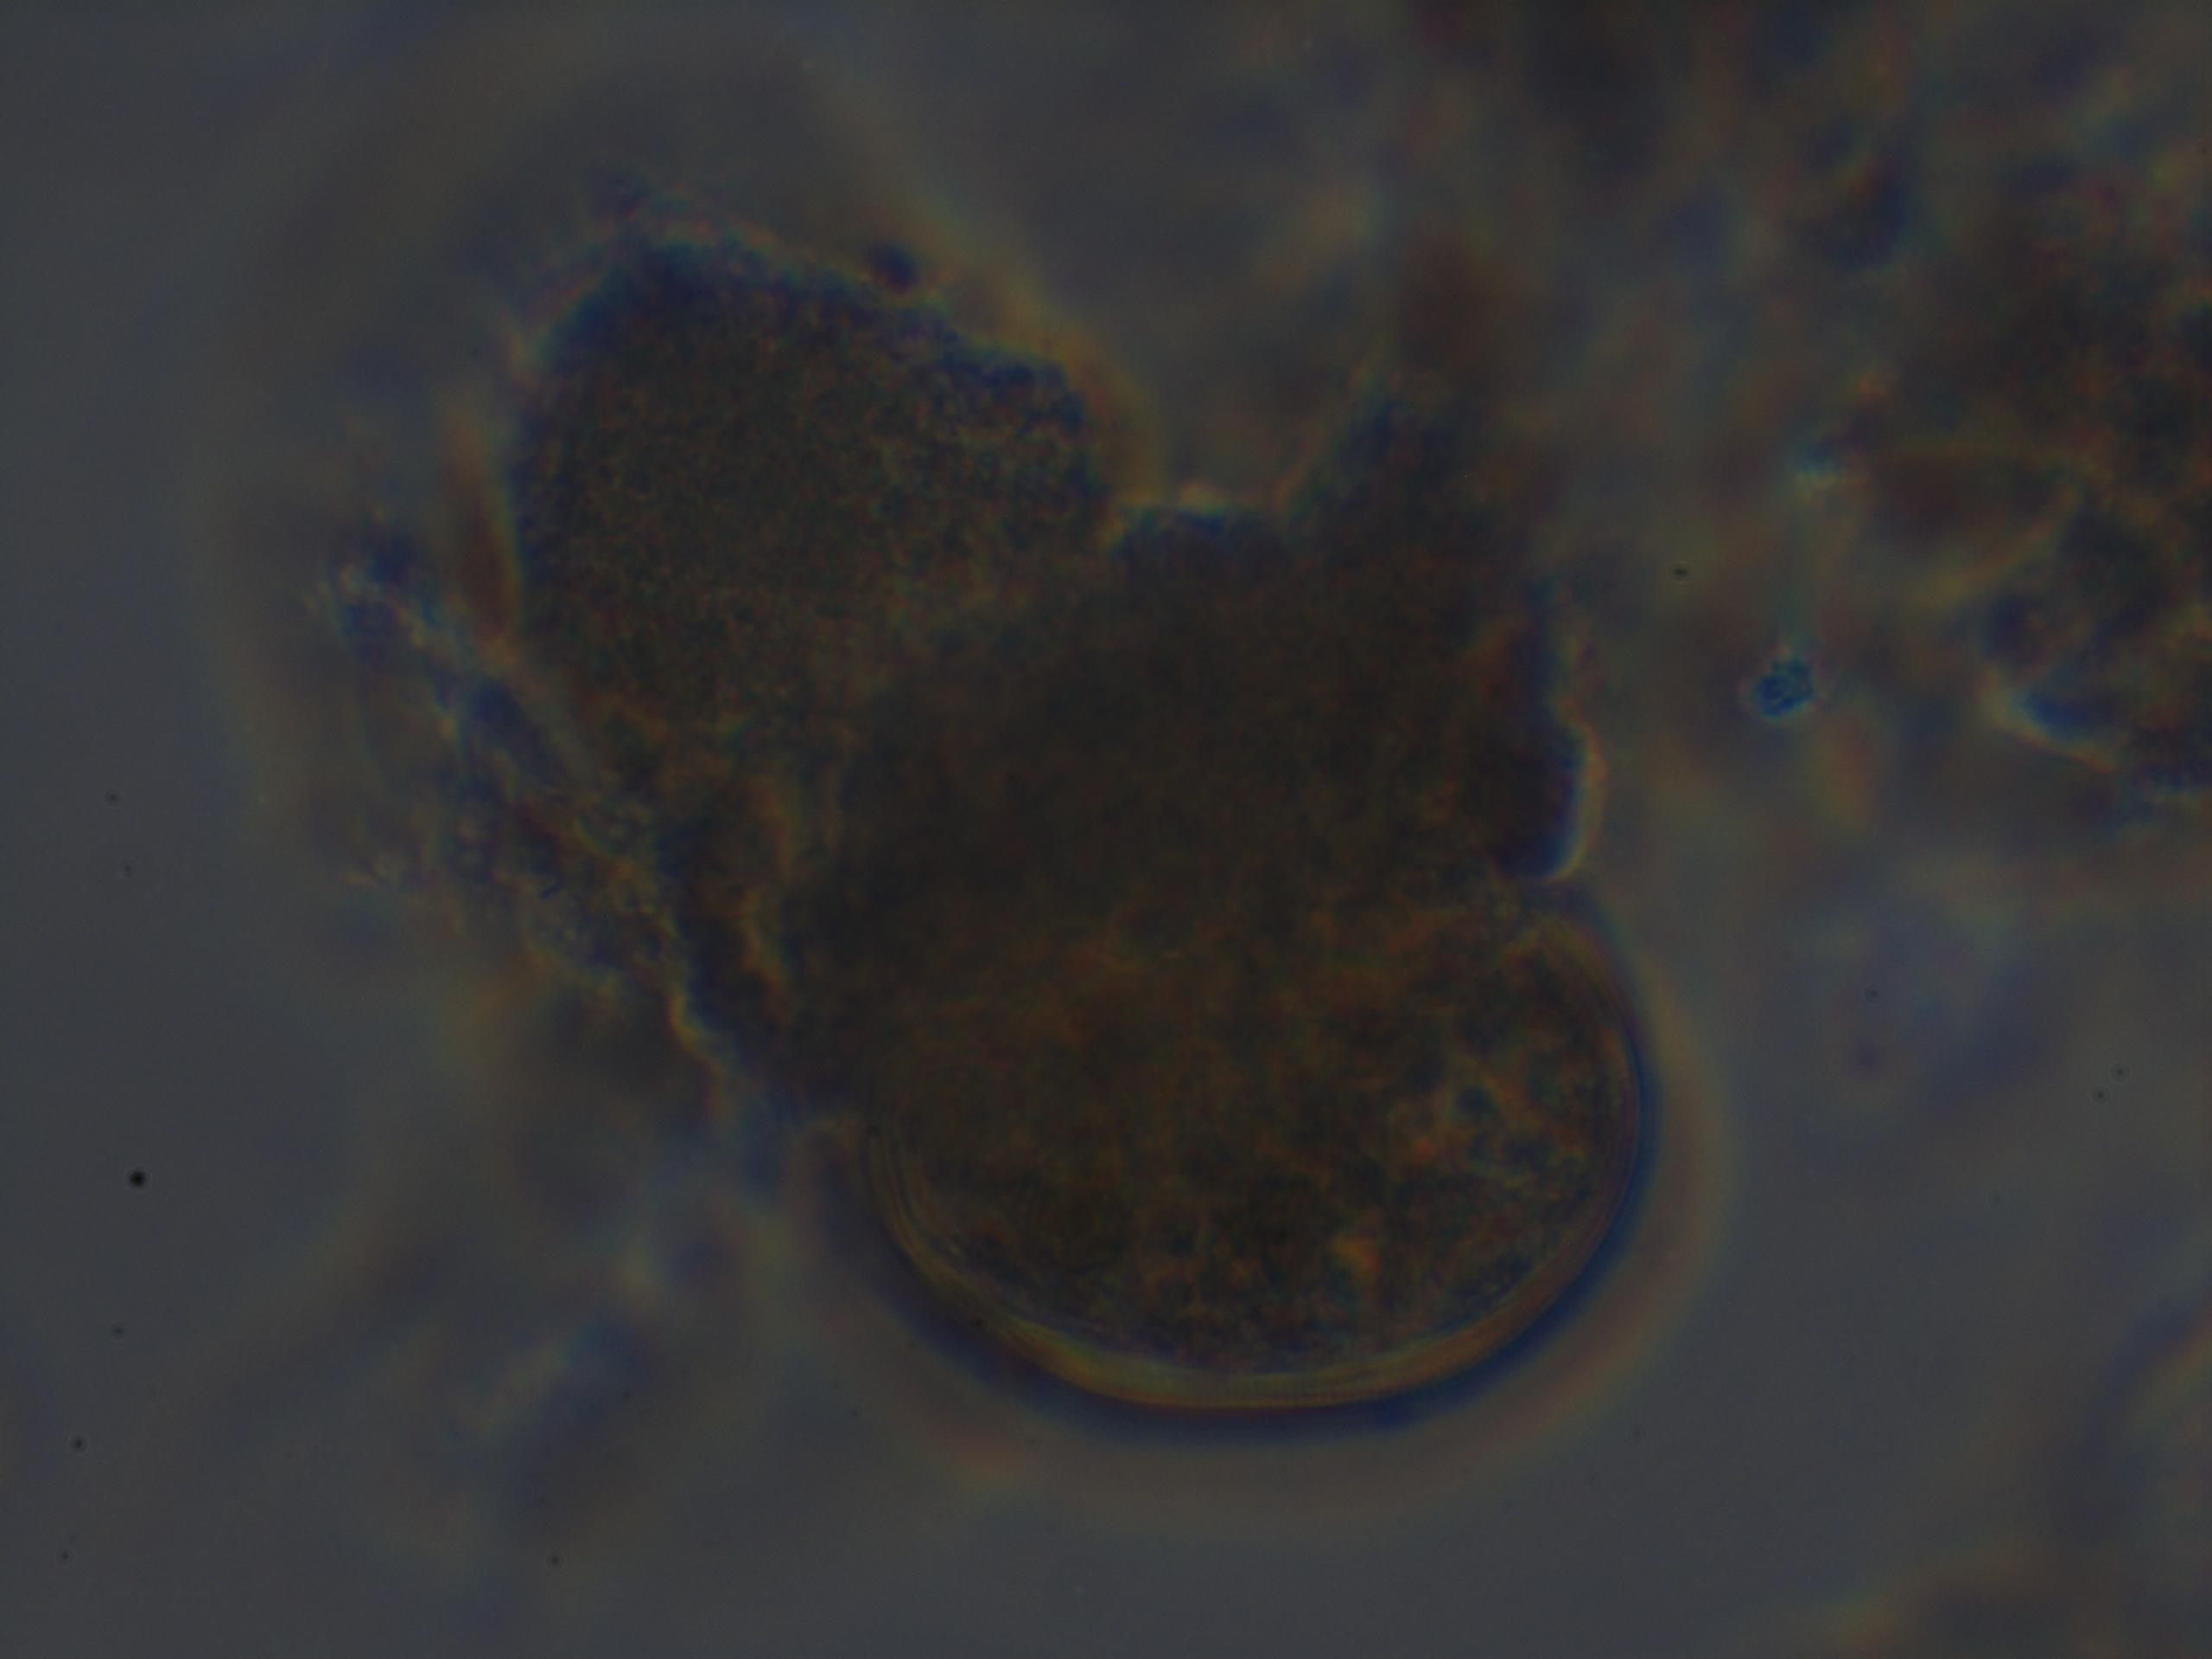protozoa: (784, 831, 1752, 1429)
